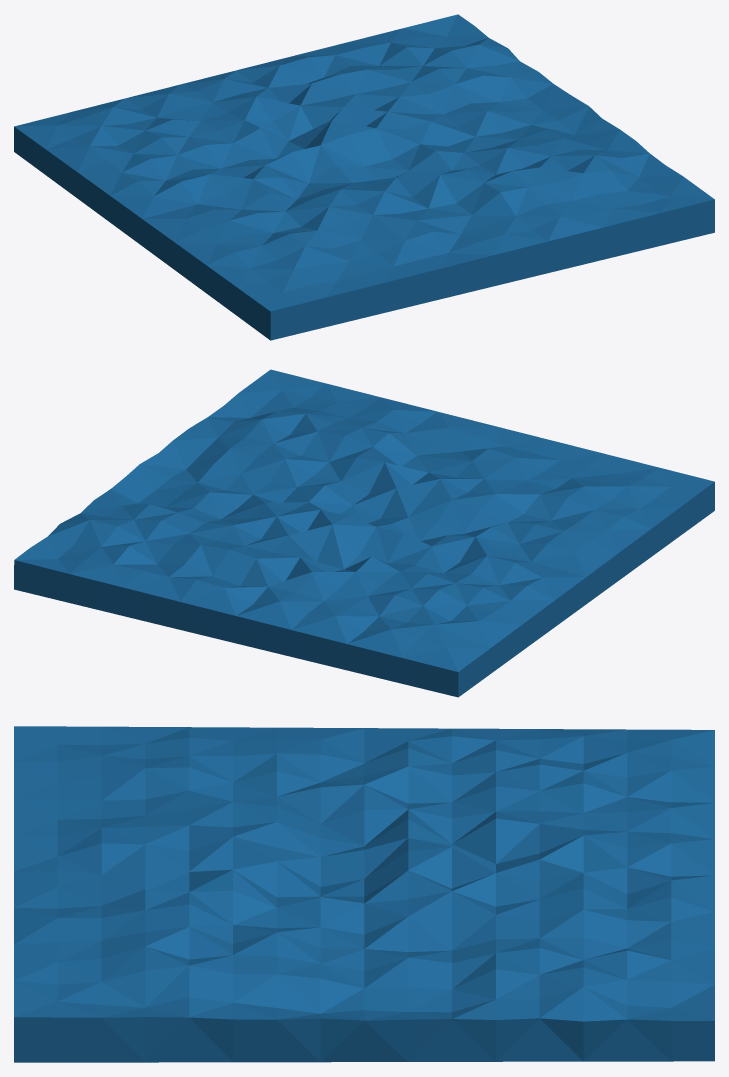
File: BlueWater Earth Plane BG.fbx
3 renders of one model, top to bottom at view 1: azimuth 30°, elevation 25°; view 2: azimuth 150°, elevation 25°; view 3: azimuth 270°, elevation 25°, orthographic. The views are drawn at different scales.
Parts seen in each view (by area): view 1: Earth BG; view 2: Earth BG; view 3: Earth BG.
Part boxes in pixels (<box>): Earth BG: <box>14,14,714,340</box>; Earth BG: <box>14,369,714,697</box>; Earth BG: <box>14,726,714,1062</box>.
Bounding box in the file's own units: 6989 × 744 × 6951.
